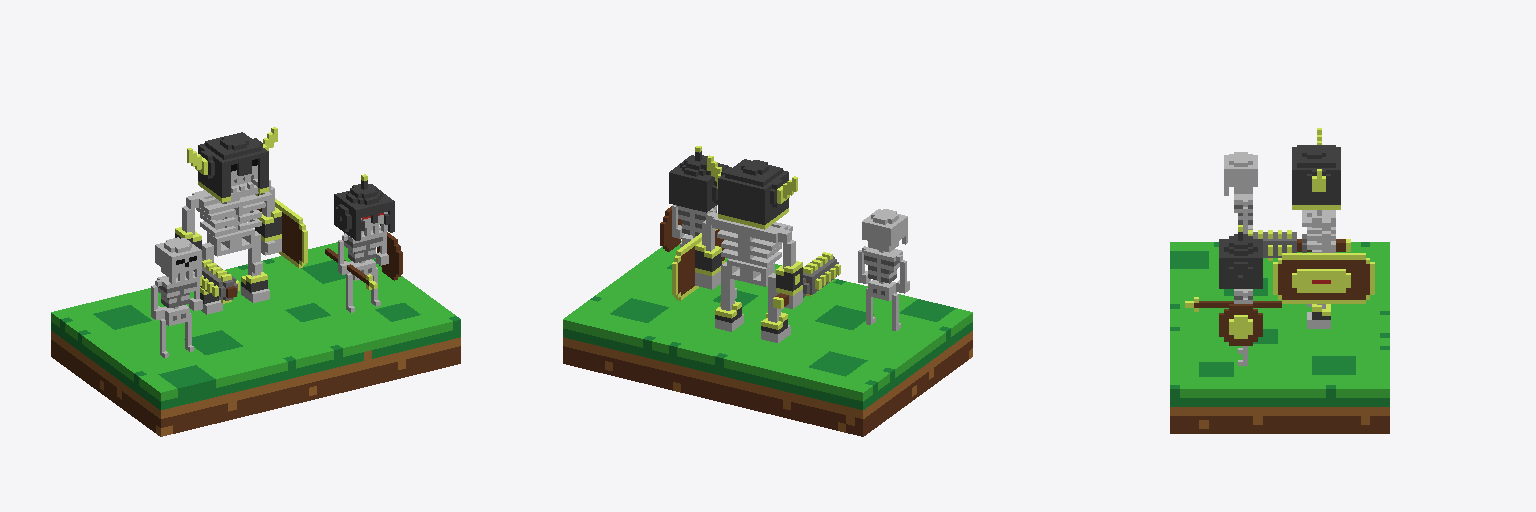
3 renders of one model, left to right at view 1: azimuth 30°, elevation 25°; view 2: azimuth 150°, elevation 25°; view 3: azimuth 270°, elevation 25°, orthographic.
Visible parts, largest first — view 1: _allSkileton; view 2: _allSkileton; view 3: _allSkileton.
Boxes of the visible parts, x1,y1,x2,y2 form: _allSkileton: [51, 127, 460, 436]; _allSkileton: [563, 146, 972, 436]; _allSkileton: [1170, 128, 1389, 433].
Bounding box in the file's own units: 9.4 × 6.22 × 5.96.
Materials: 1 (1 with a texture image).